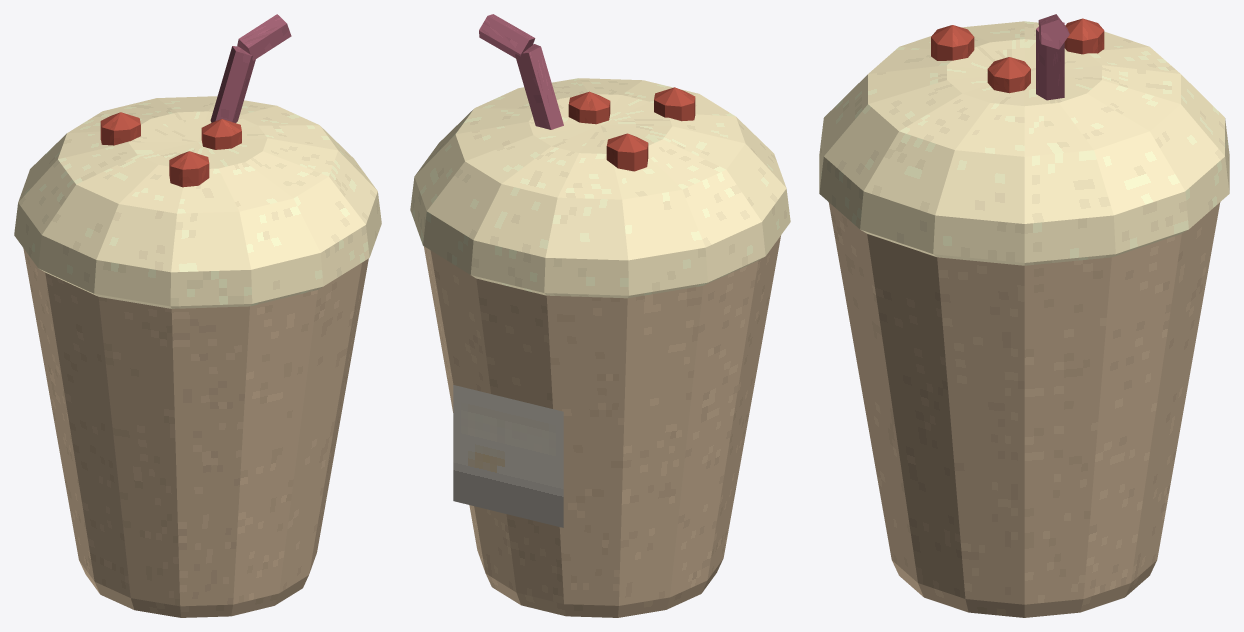
Rendered from milkshake_deluxe.glb.
3 views of the same model, side by side, from view 1: azimuth 30°, elevation 25°; view 2: azimuth 150°, elevation 25°; view 3: azimuth 270°, elevation 25° (orthographic). The views are drawn at different scales.
Parts seen in each view (by area): view 1: block_tapered cold-drink cup, block_domed cover, block_fruit and candy topping (×3), block_bent drinking straw 0, block_bent drinking straw 1; view 2: block_tapered cold-drink cup, block_domed cover, block_cup mark, block_fruit and candy topping (×3), block_bent drinking straw 0, block_bent drinking straw 1; view 3: block_tapered cold-drink cup, block_domed cover, block_fruit and candy topping (×3), block_bent drinking straw 0, block_bent drinking straw 1.
Part boxes in pixels (x1,y1,x2,y2): block_tapered cold-drink cup: (23, 248, 368, 617); block_domed cover: (14, 96, 381, 308); block_fruit and candy topping (×3): (100, 112, 241, 187); block_bent drinking straw 0: (210, 46, 255, 122); block_bent drinking straw 1: (237, 14, 291, 60); block_tapered cold-drink cup: (423, 236, 780, 617); block_domed cover: (410, 78, 790, 298); block_cup mark: (453, 385, 563, 527); block_fruit and candy topping (×3): (568, 87, 695, 171); block_bent drinking straw 0: (514, 44, 563, 129); block_bent drinking straw 1: (479, 14, 535, 58); block_tapered cold-drink cup: (828, 202, 1220, 617); block_domed cover: (819, 21, 1229, 265); block_fruit and candy topping (×3): (931, 18, 1104, 93); block_bent drinking straw 0: (1036, 22, 1064, 100); block_bent drinking straw 1: (1038, 14, 1069, 49).
Bounding box in the file's own units: 0.0825 × 0.129 × 0.0804.
1 material, 1 textured.
